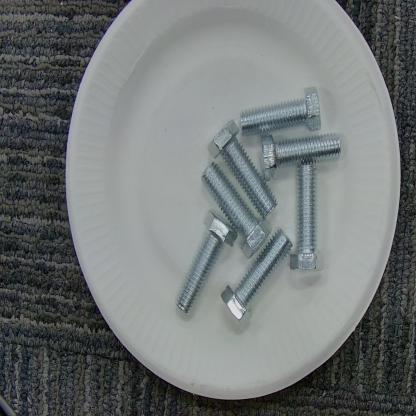FOD: (174, 76, 345, 322)
